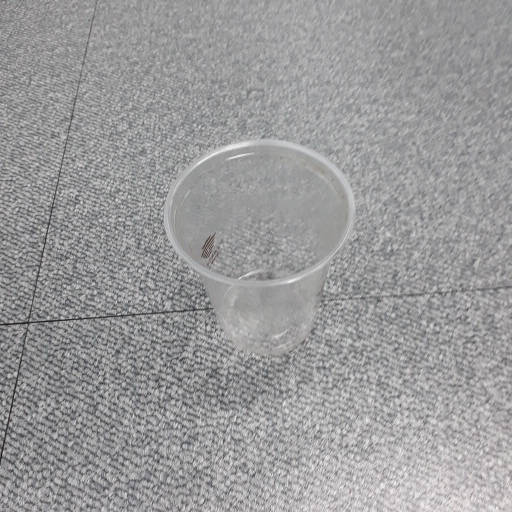Plastic_2: (157, 139, 359, 353)
